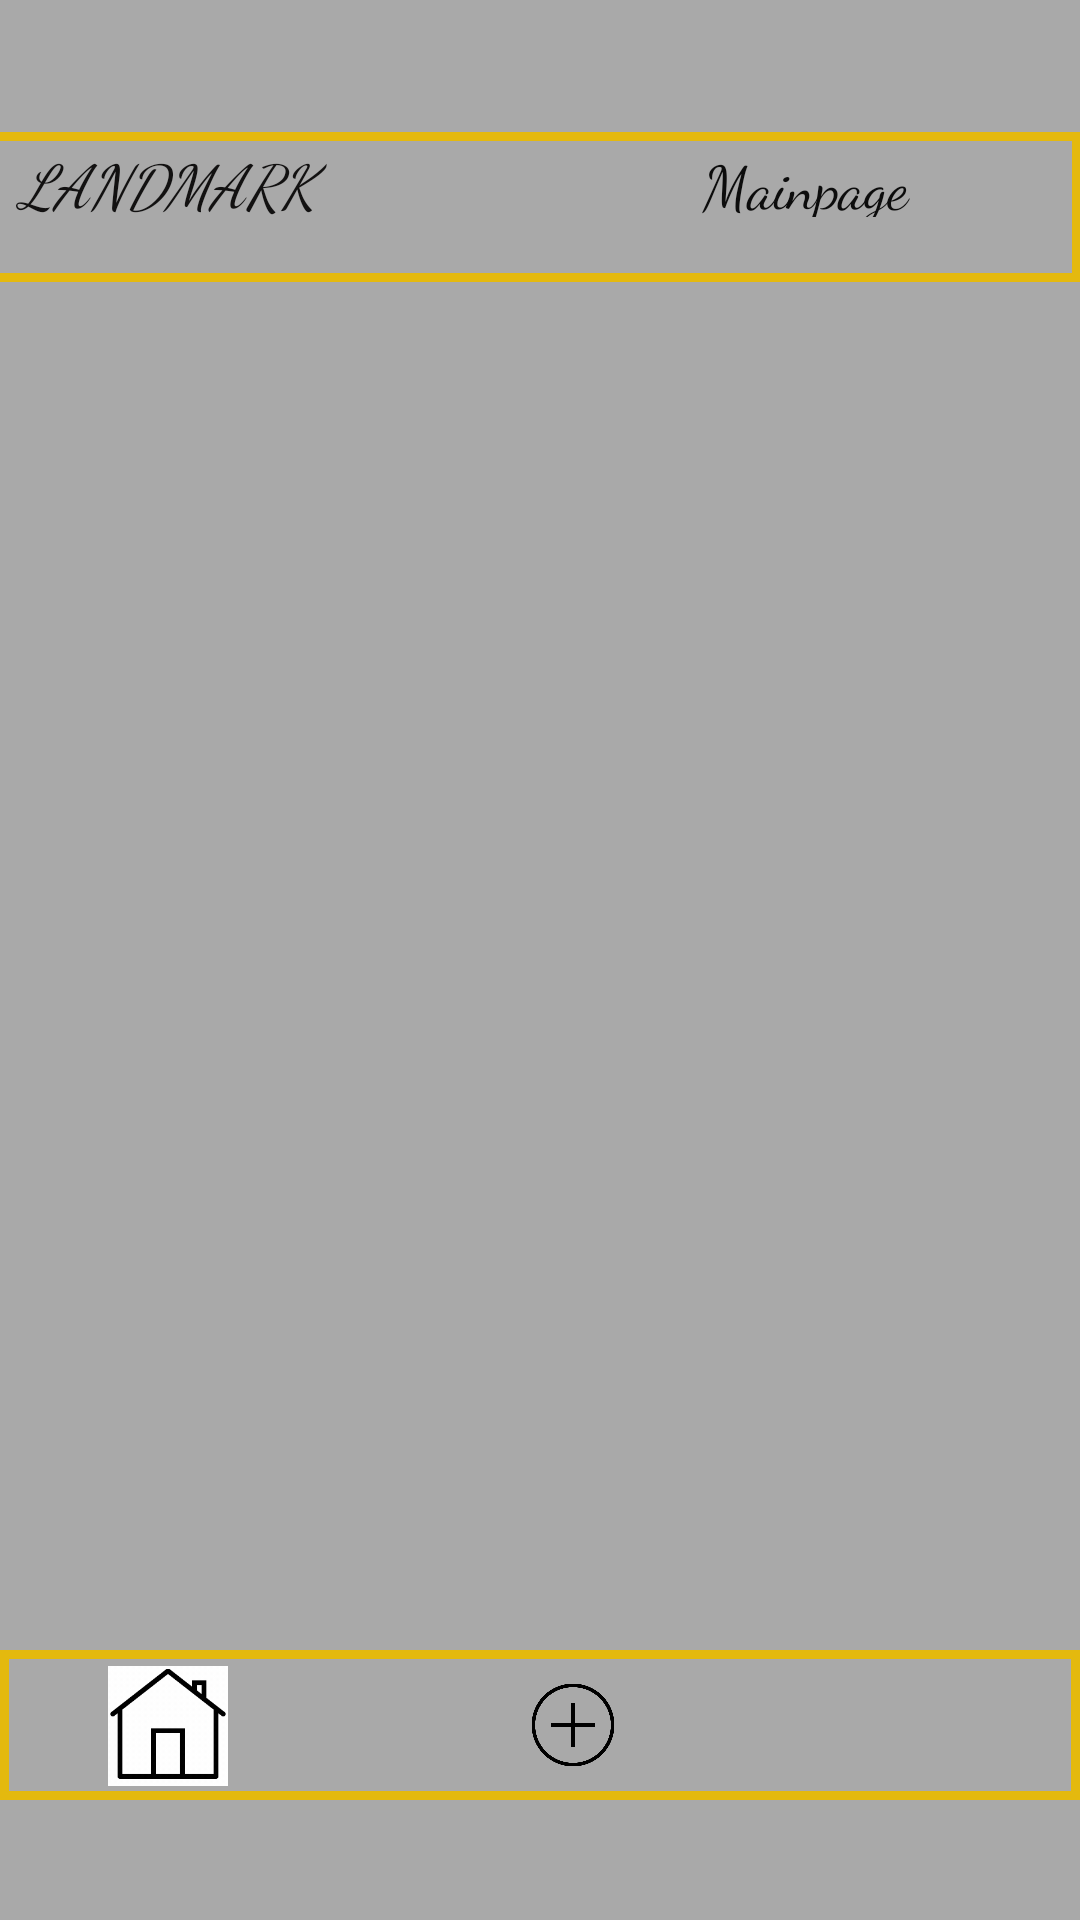

Where to tap for icons on this 1080×1920 app screen, as [x,y]:
home: [168,1726]
plus: [573,1725]
